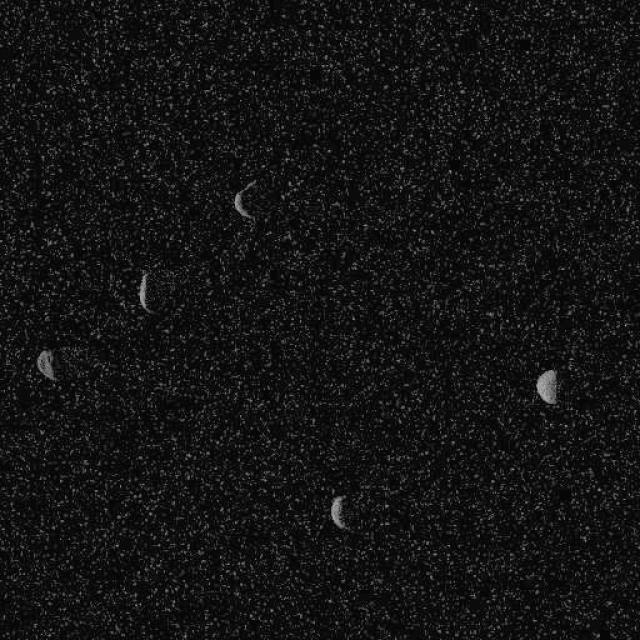D2: (232, 178, 258, 222), (535, 367, 557, 405), (135, 272, 154, 312), (328, 494, 348, 530), (35, 348, 56, 382)
